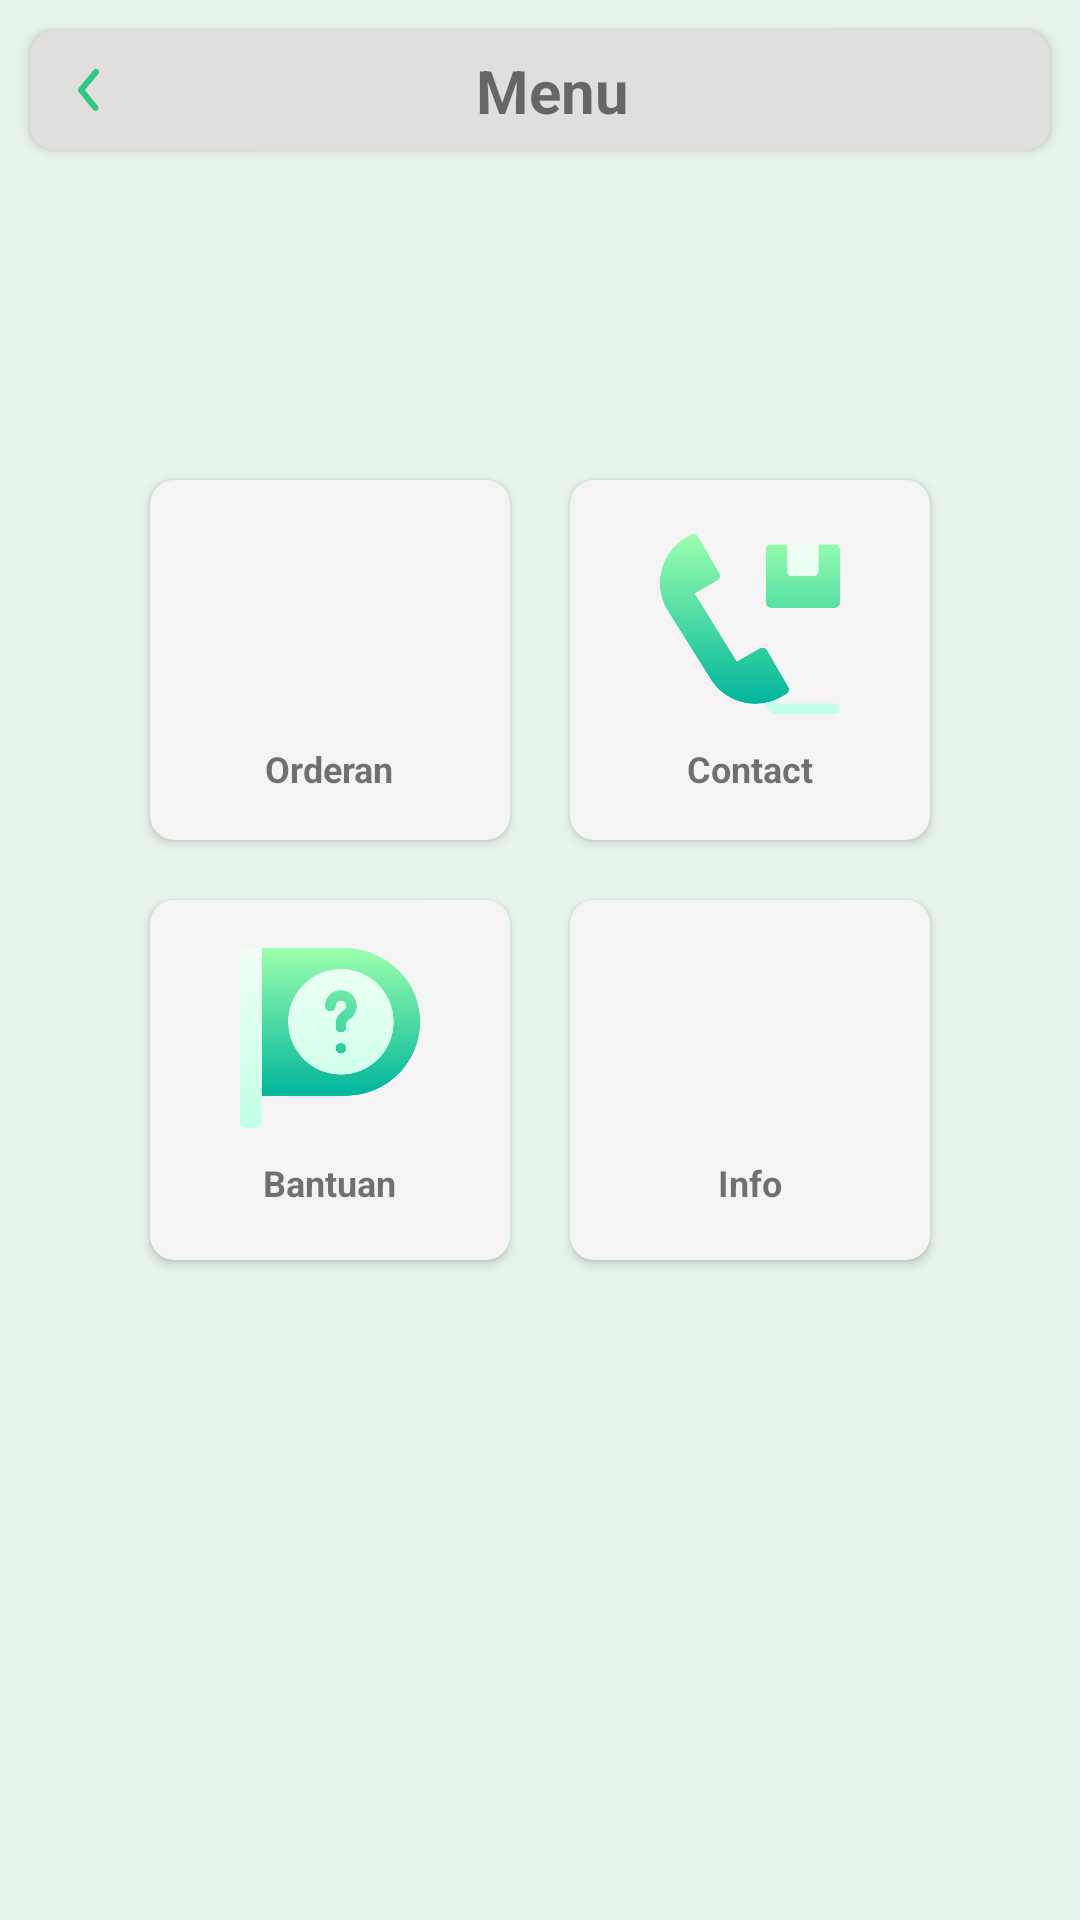

Screen size 1080px x 1920px. Icon name, then its box in pixels as (x1, y1, x2, y2):
arrowback: (78, 69, 99, 111)
